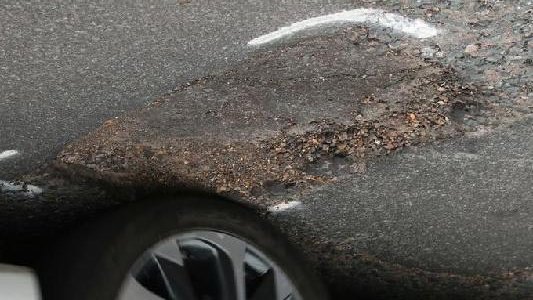pothole: (48, 54, 468, 207)
